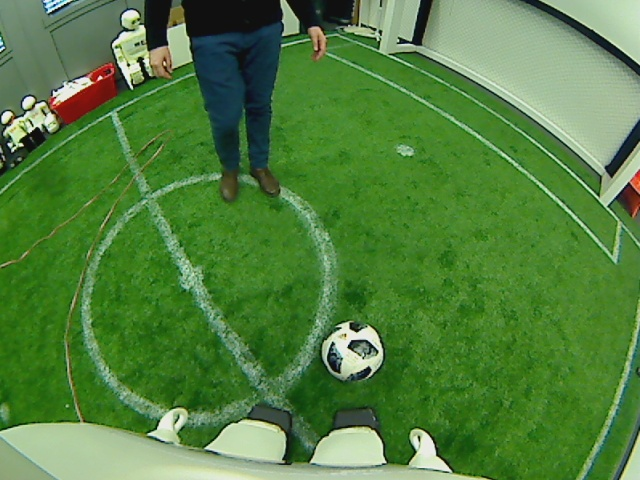ball: (320, 320, 383, 383)
